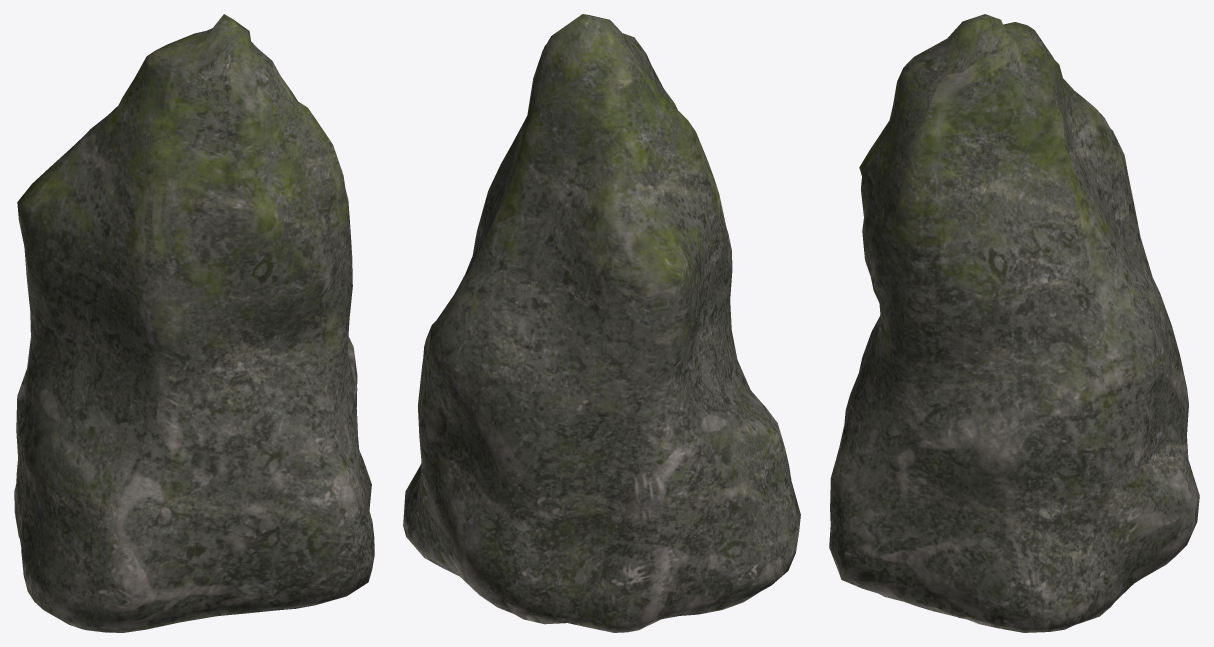
Rendered from Stone2.fbx.
The picture shows the model from 3 angles, left to right: view 1: azimuth 30°, elevation 25°; view 2: azimuth 150°, elevation 25°; view 3: azimuth 270°, elevation 25°; orthographic projection. The views are drawn at different scales.
Parts seen in each view (by area): view 1: Stone2; view 2: Stone2; view 3: Stone2.
Part boxes in pixels (box(x1,y1,x2,y2)): Stone2: box(14, 14, 374, 632); Stone2: box(403, 14, 800, 632); Stone2: box(829, 14, 1199, 632).
Size of the model in its own units: 1.96 by 2.94 by 1.77.
